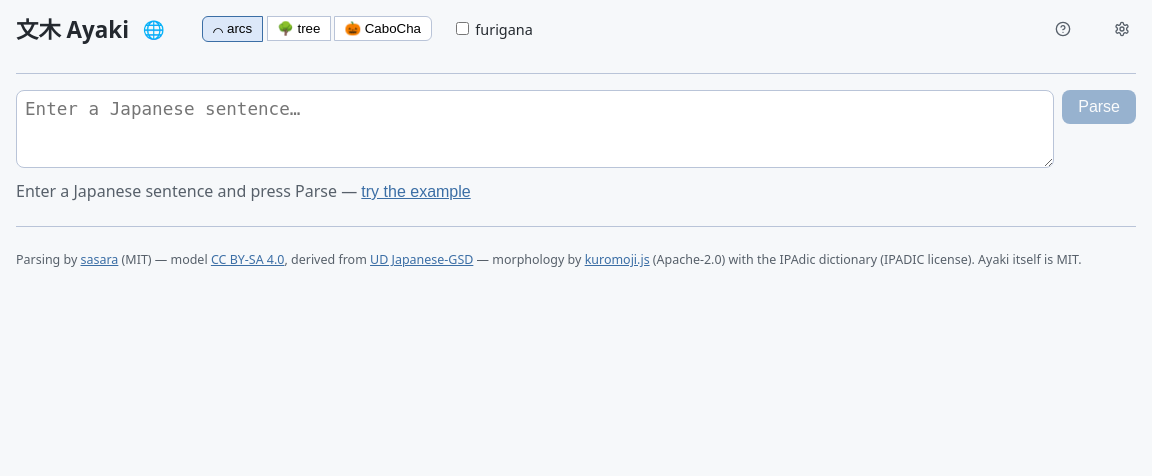
Test: App › lays out three bands after a parse: entry outside a results grid, two rules
The width and height of the screenshot is (1152, 476).
Type "猫が魚を食べた。" into the text box. click: (535, 129)
box: left=16, top=90, right=1054, bottom=168
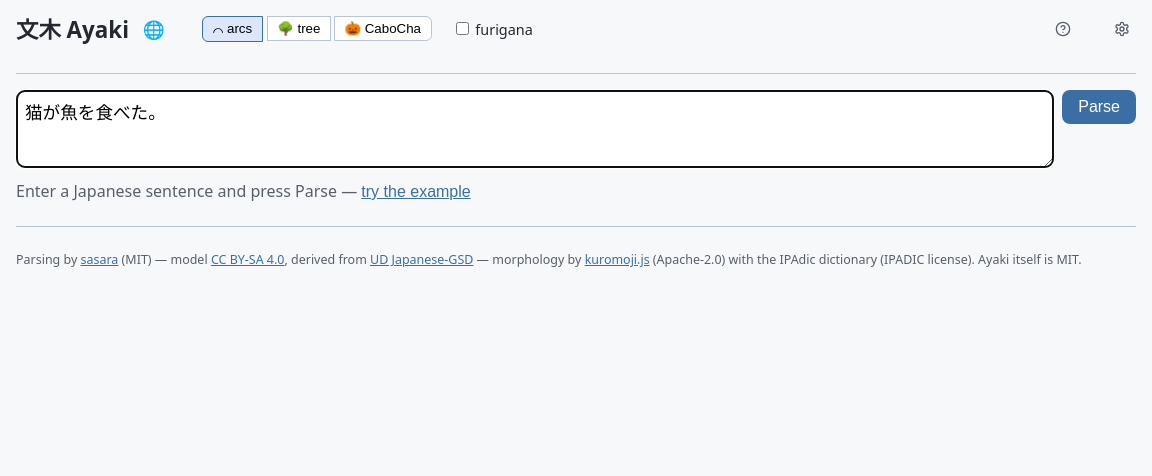
Click the button "Parse". click: (1099, 107)
box: left=1062, top=90, right=1136, bottom=124
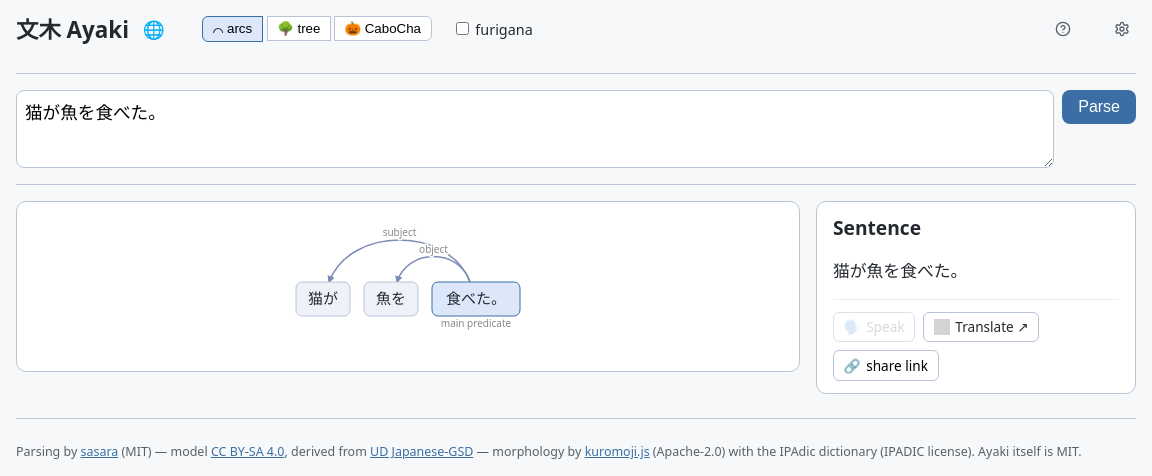
Expected: the element with class "results" is shown, left=16, top=201, right=1136, bottom=394
Expected: the element with class "cards" is shown, left=16, top=201, right=800, bottom=388
Expected: the element with class "inspector" is shown, left=816, top=201, right=1136, bottom=394
